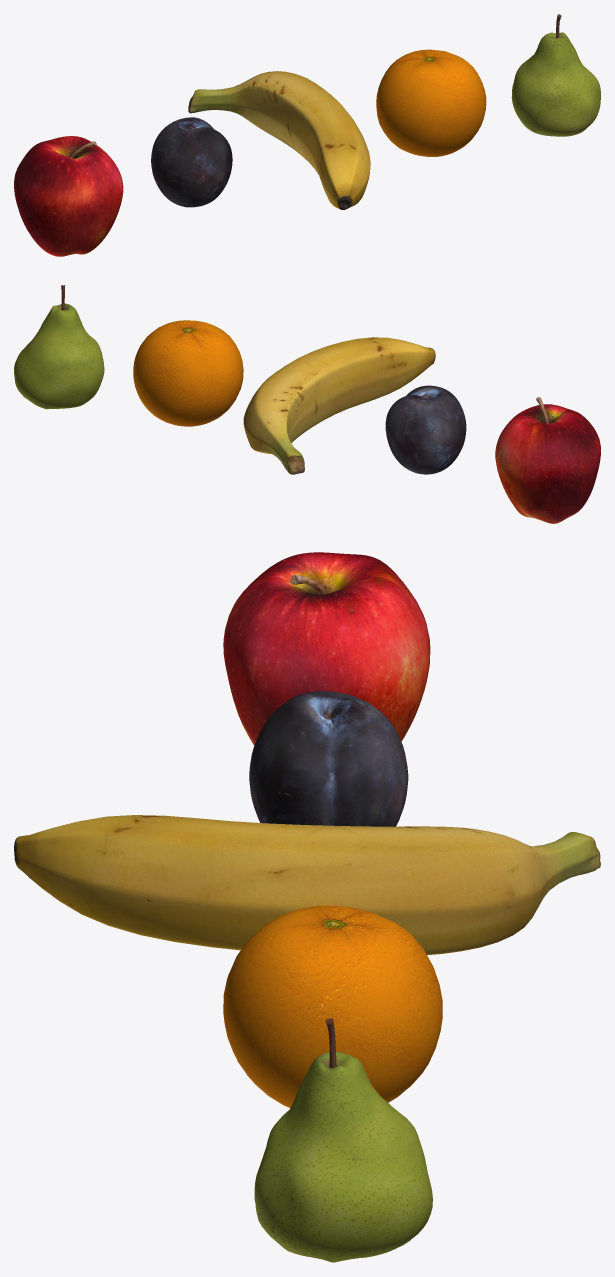
Rendered from Fruts.FBX.
3 views of the same model, one above another, from view 1: azimuth 30°, elevation 25°; view 2: azimuth 150°, elevation 25°; view 3: azimuth 270°, elevation 25° (orthographic). The views are drawn at different scales.
Visible parts, largest first — view 1: Banana, apple, Orange, Grusha, Sliva; view 2: Banana, apple, Orange, Grusha, Sliva; view 3: Banana, Orange, apple, Grusha, Sliva.
Boxes of the visible parts, x1=… form: Banana: x1=188, y1=71, x2=370, y2=209; apple: x1=14, y1=136, x2=123, y2=256; Orange: x1=376, y1=49, x2=486, y2=156; Grusha: x1=511, y1=14, x2=600, y2=136; Sliva: x1=151, y1=117, x2=232, y2=207; Banana: x1=243, y1=337, x2=435, y2=474; apple: x1=495, y1=397, x2=600, y2=523; Orange: x1=133, y1=320, x2=243, y2=426; Grusha: x1=14, y1=285, x2=104, y2=409; Sliva: x1=385, y1=385, x2=466, y2=474; Banana: x1=14, y1=815, x2=600, y2=955; Orange: x1=223, y1=905, x2=442, y2=1107; apple: x1=223, y1=552, x2=430, y2=745; Grusha: x1=254, y1=1018, x2=432, y2=1262; Sliva: x1=249, y1=691, x2=408, y2=826.
Bounding box in the file's own units: 40.51 × 7.8 × 18.17.
